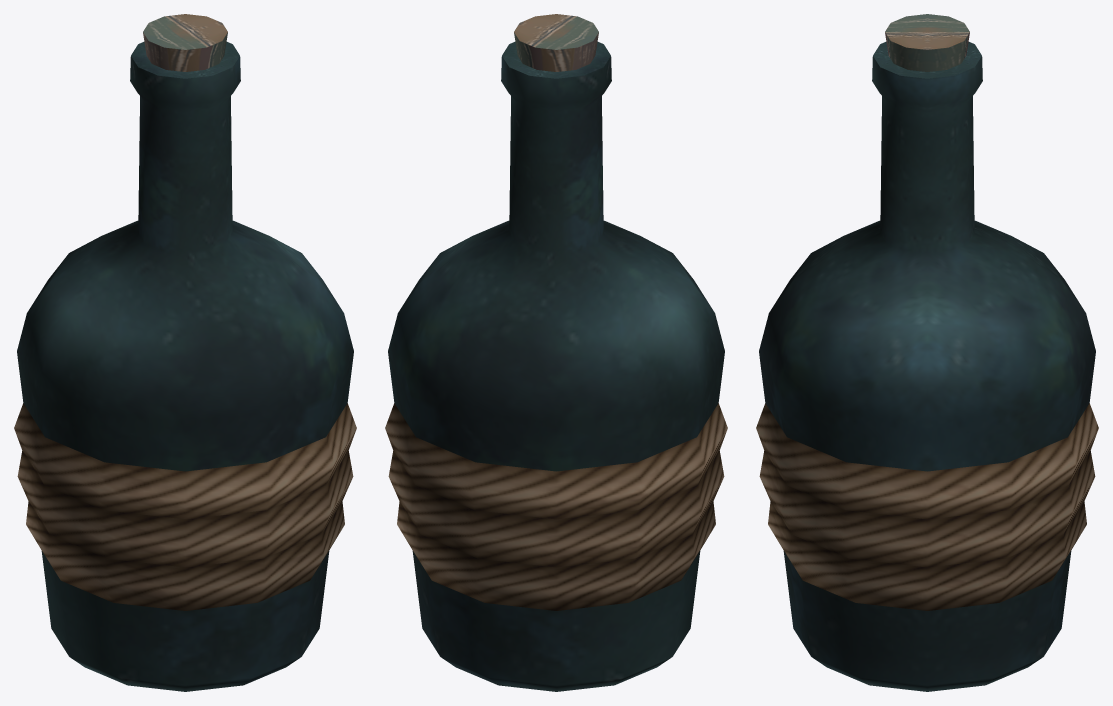
Rendered from village_bottle_01.fbx.
3 renders of one model, left to right at view 1: azimuth 30°, elevation 25°; view 2: azimuth 150°, elevation 25°; view 3: azimuth 270°, elevation 25°, orthographic.
Parts seen in each view (by area): view 1: village_bottle_01; view 2: village_bottle_01; view 3: village_bottle_01.
Boxes of the visible parts, x1,y1,x2,y2 form: village_bottle_01: (14, 14, 356, 691); village_bottle_01: (385, 14, 727, 691); village_bottle_01: (756, 14, 1098, 691).
Size of the model in its own units: 15.8 by 31.05 by 15.8.
